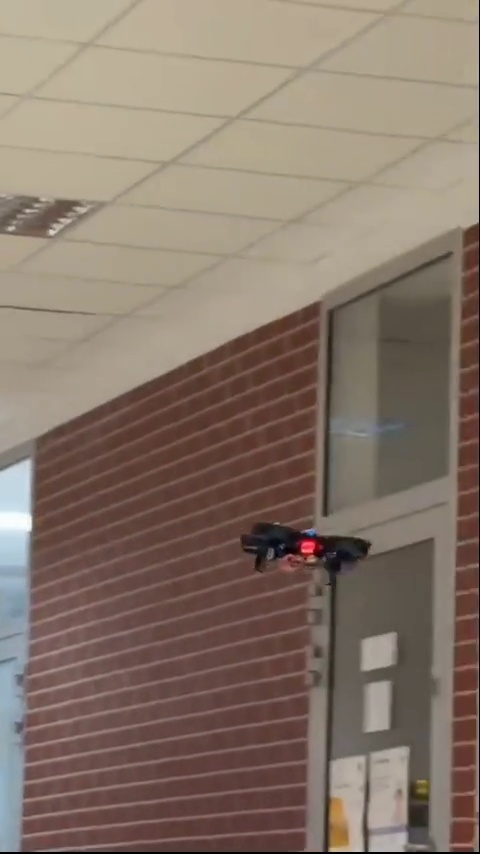drone: (236, 523, 370, 575)
